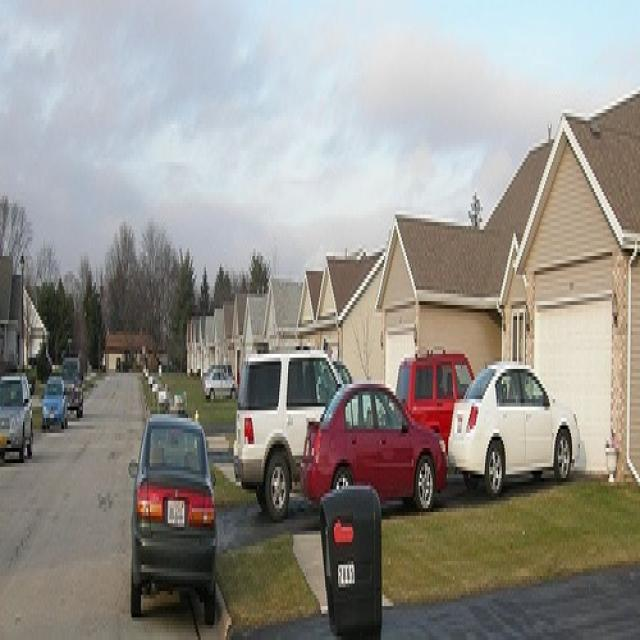car: (299, 376, 446, 512), (233, 346, 346, 520), (128, 410, 218, 625), (449, 354, 580, 497), (394, 354, 476, 444), (0, 369, 33, 470), (203, 362, 236, 406), (42, 376, 67, 433), (63, 361, 82, 418)
